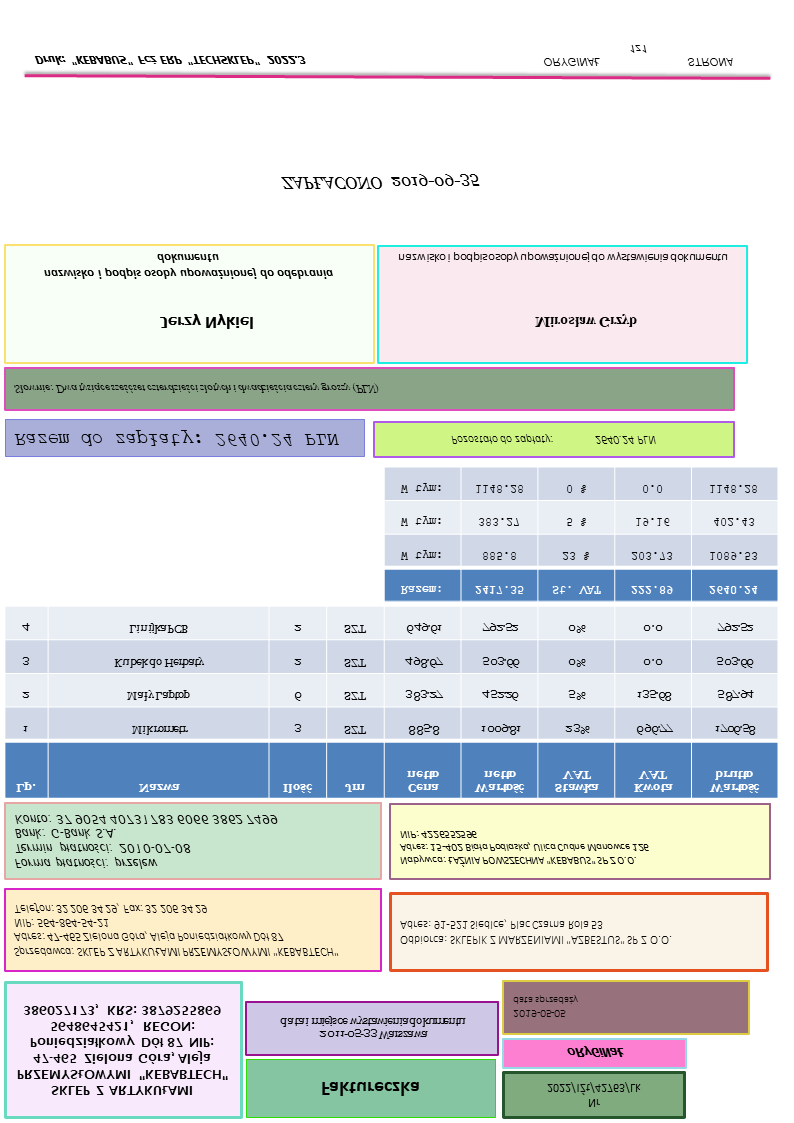Table: (2, 607, 780, 800), (383, 467, 779, 603)
TextBox: (13, 1003, 231, 1100), (10, 900, 339, 960), (10, 811, 279, 871), (396, 828, 650, 869), (397, 918, 673, 949), (12, 430, 340, 450), (11, 379, 381, 396), (277, 1014, 469, 1044), (540, 43, 736, 69), (277, 171, 481, 193), (33, 53, 307, 69), (448, 432, 657, 448), (545, 1080, 644, 1112), (317, 1078, 421, 1099), (510, 992, 582, 1021), (156, 312, 256, 332), (533, 313, 638, 330), (563, 1045, 628, 1062)
